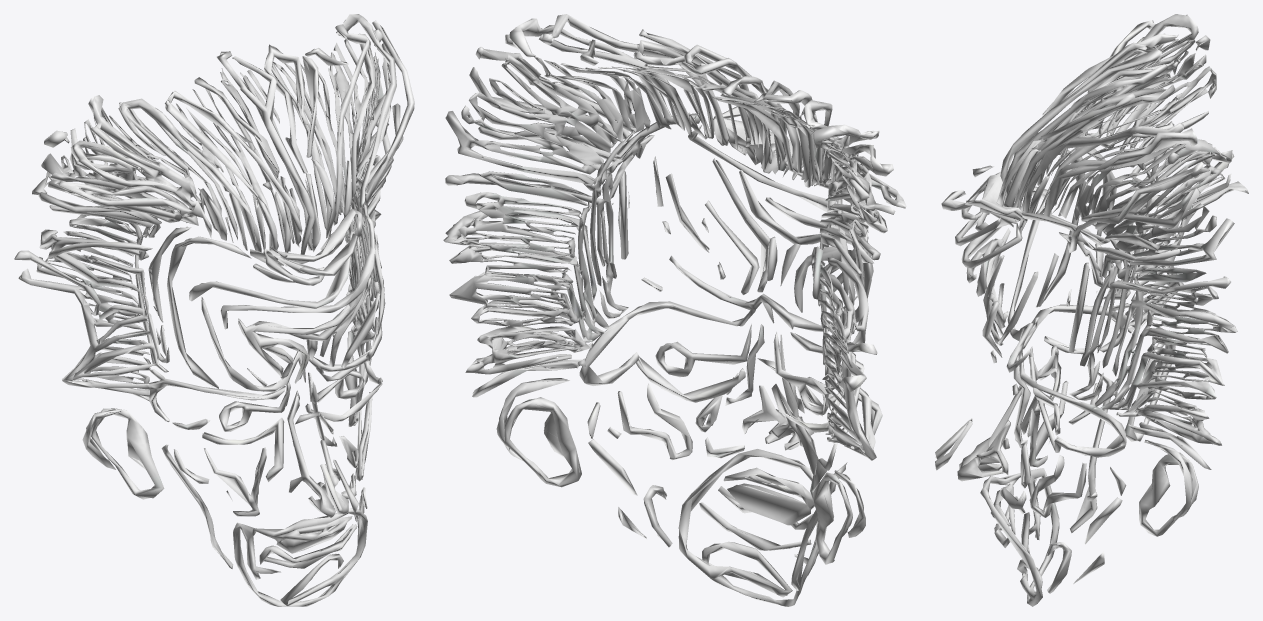
The model's file is doodle.glb.
3 renders of one model, left to right at view 1: azimuth 30°, elevation 25°; view 2: azimuth 150°, elevation 25°; view 3: azimuth 270°, elevation 25°, orthographic. The views are drawn at different scales.
Parts seen in each view (by area): view 1: geometry_0; view 2: geometry_0; view 3: geometry_0.
Boxes of the visible parts, x1,y1,x2,y2 form: geometry_0: (14,14,414,606); geometry_0: (443,14,906,606); geometry_0: (935,14,1248,606).
Size of the model in its own units: 0.7543 by 0.999 by 0.5343.
Materials: 1 (1 with a texture image).
